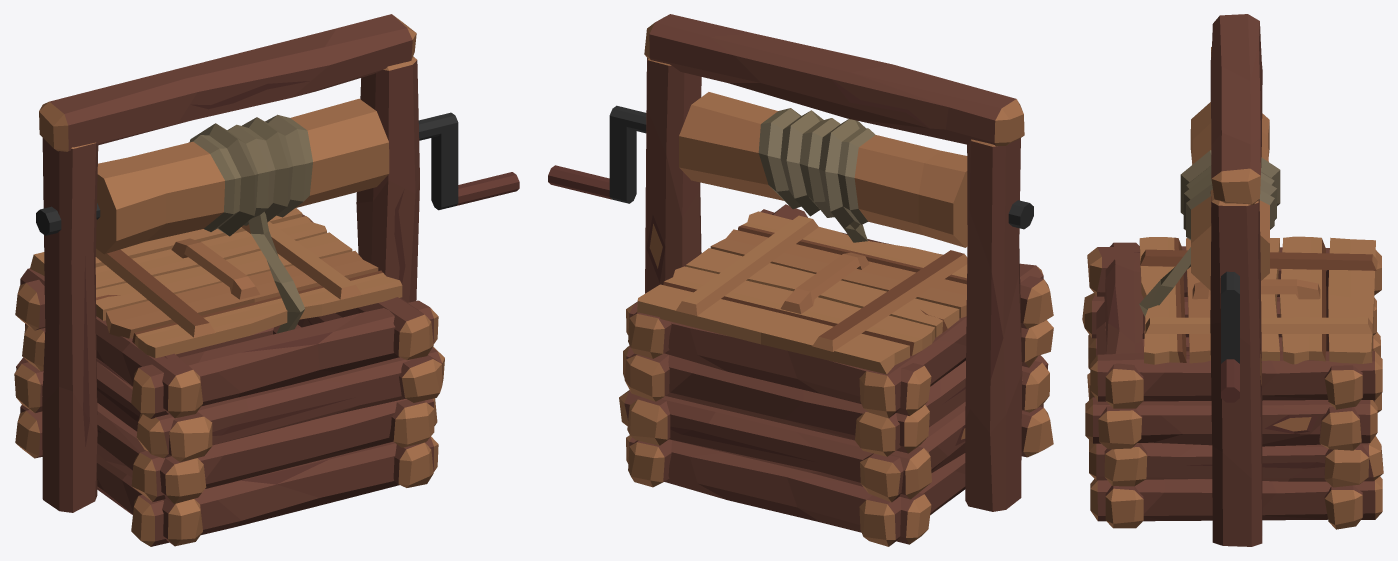
Rendered from well_with_cover.fbx.
3 renders of one model, left to right at view 1: azimuth 30°, elevation 25°; view 2: azimuth 150°, elevation 25°; view 3: azimuth 270°, elevation 25°, orthographic. The views are drawn at different scales.
Parts seen in each view (by area): view 1: well, roll, cover, rope; view 2: well, cover, roll; view 3: well, cover, roll, rope.
Part boxes in pixels (<box>): well: <box>14,14,444,546</box>; roll: <box>36,98,519,254</box>; cover: <box>30,208,402,358</box>; rope: <box>248,211,305,333</box>; well: <box>619,14,1053,546</box>; cover: <box>637,211,967,374</box>; roll: <box>548,92,1033,247</box>; well: <box>1082,14,1383,546</box>; cover: <box>1139,236,1377,364</box>; roll: <box>1180,102,1280,402</box>; rope: <box>1139,247,1190,317</box>.
Size of the model in its own units: 1.49 by 1.22 by 0.8813.
